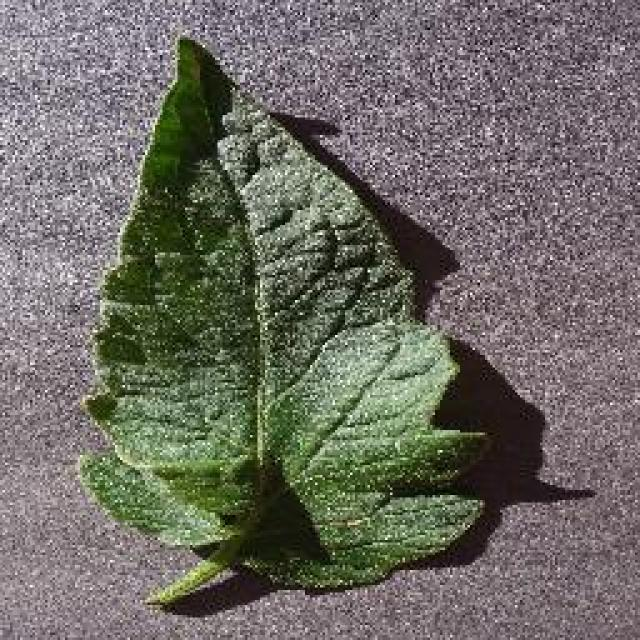Tomato_Healthy: (55, 32, 517, 604)
